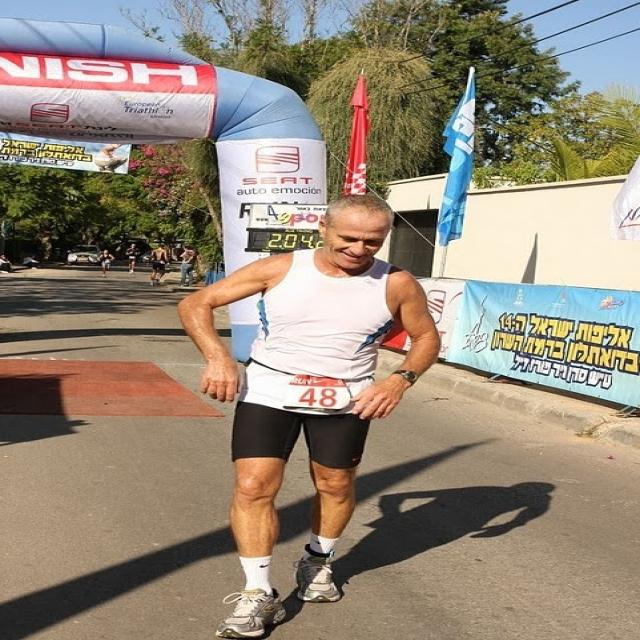Bib: (299, 388, 352, 410)
